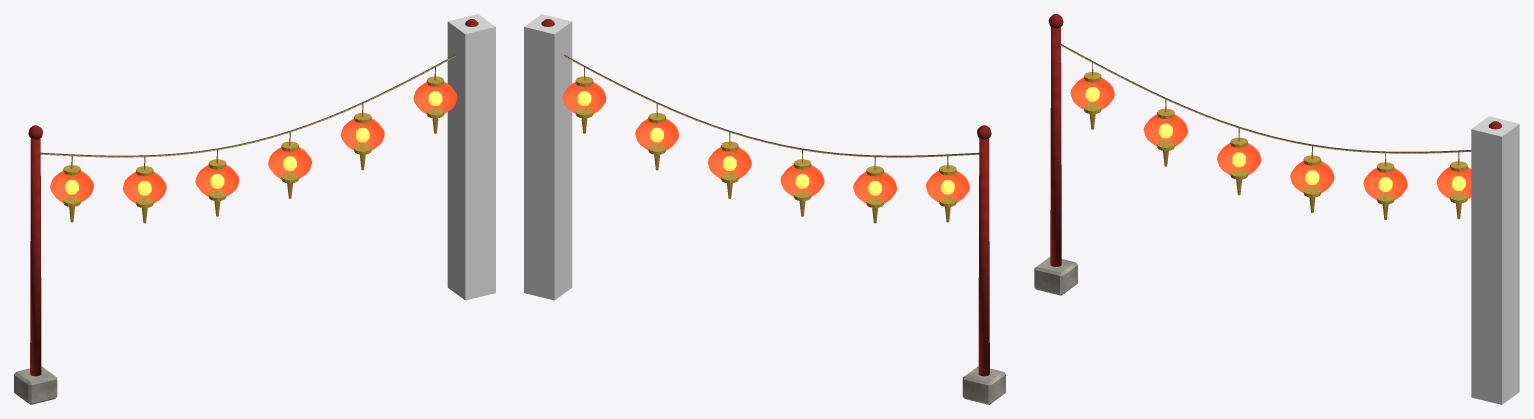
Rendered from lantern_string.glb.
3 views of the same model, side by side, from view 1: azimuth 30°, elevation 25°; view 2: azimuth 150°, elevation 25°; view 3: azimuth 330°, elevation 25° (orthographic).
Visible parts, largest first — view 1: LanternPoleCol-convcolonly.001, Lanterns, LanternPoles, LanternFrames, PoleBases, LanternRope, LanternGlow; view 2: LanternPoleCol-convcolonly.001, Lanterns, LanternPoles, LanternFrames, PoleBases, LanternRope, LanternGlow; view 3: LanternPoleCol-convcolonly.001, Lanterns, LanternPoles, LanternFrames, PoleBases, LanternRope, LanternGlow.
Part boxes in pixels (x1,y1,x2,y2): LanternPoleCol-convcolonly.001: (447, 14, 495, 300); Lanterns: (50, 82, 457, 204); LanternPoles: (28, 19, 478, 376); LanternFrames: (63, 73, 444, 223); PoleBases: (14, 366, 57, 404); LanternRope: (40, 54, 456, 162); LanternGlow: (65, 91, 442, 195); LanternPoleCol-convcolonly.001: (524, 14, 572, 300); Lanterns: (562, 82, 969, 204); LanternPoles: (541, 19, 991, 376); LanternFrames: (575, 73, 956, 223); PoleBases: (962, 366, 1005, 404); LanternRope: (563, 54, 979, 162); LanternGlow: (577, 91, 954, 195); LanternPoleCol-convcolonly.001: (1471, 116, 1519, 404); Lanterns: (1070, 77, 1471, 200); LanternPoles: (1048, 14, 1501, 266); LanternFrames: (1084, 68, 1467, 219); PoleBases: (1034, 257, 1077, 295); LanternRope: (1060, 44, 1471, 158); LanternGlow: (1085, 87, 1465, 191).
Size of what is drawn, in the model's own units: 6.41 by 3.56 by 0.5148.
Materials: 6 (5 with a texture image).
